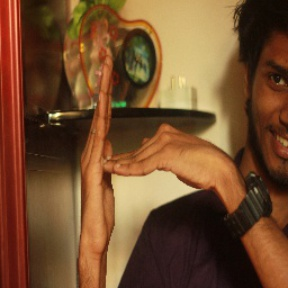Z: (70, 58, 225, 257)
